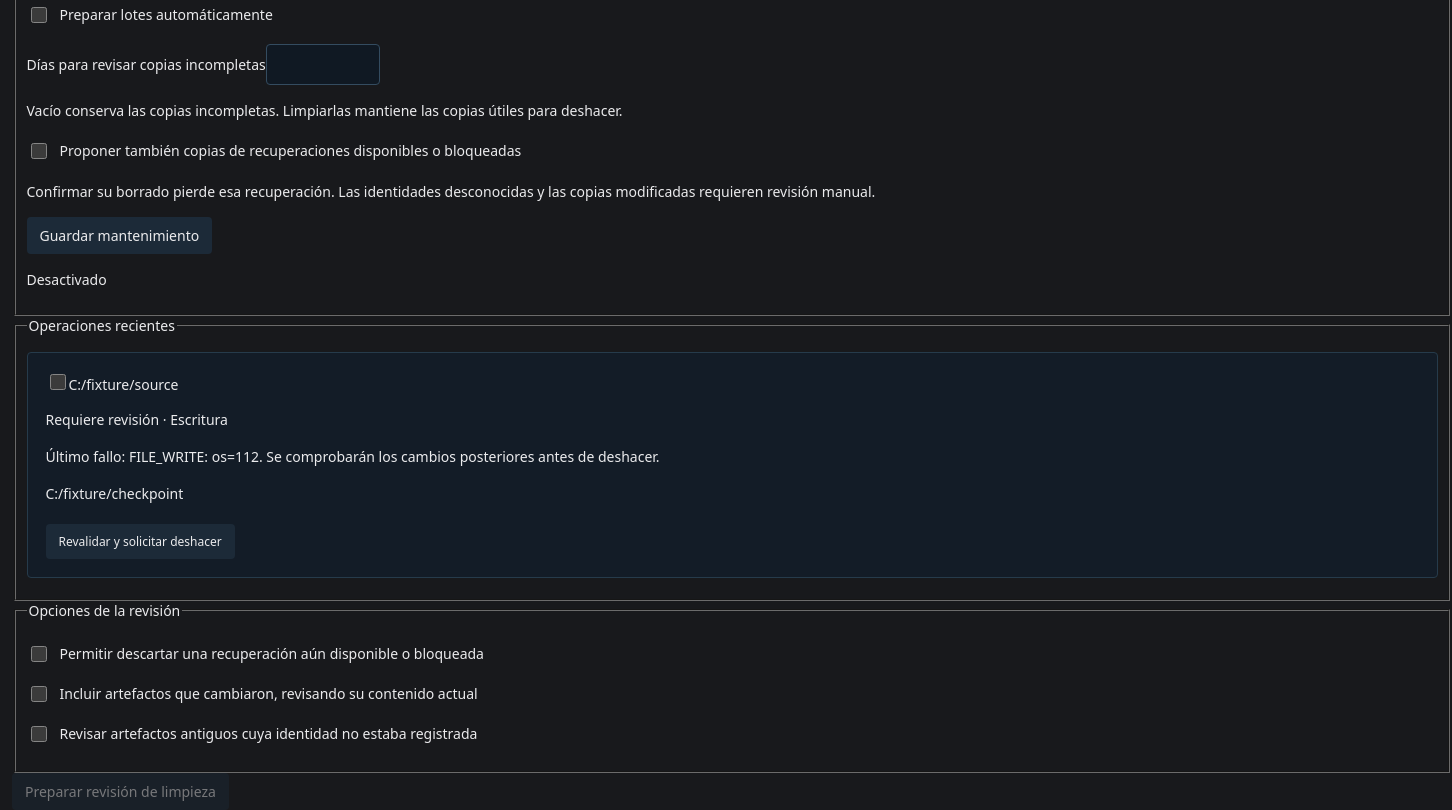
a recorded write failure stays visible and reconciliation reports a verified recovery state
(page scrolled)
Expected: the text "Último fallo: FILE_WRITE: os=112" is shown, [46,447,660,466]
Click the button "Revalidar y solicitar deshacer". click: [140, 542]
box: [46,524,235,559]
(page scrolled)
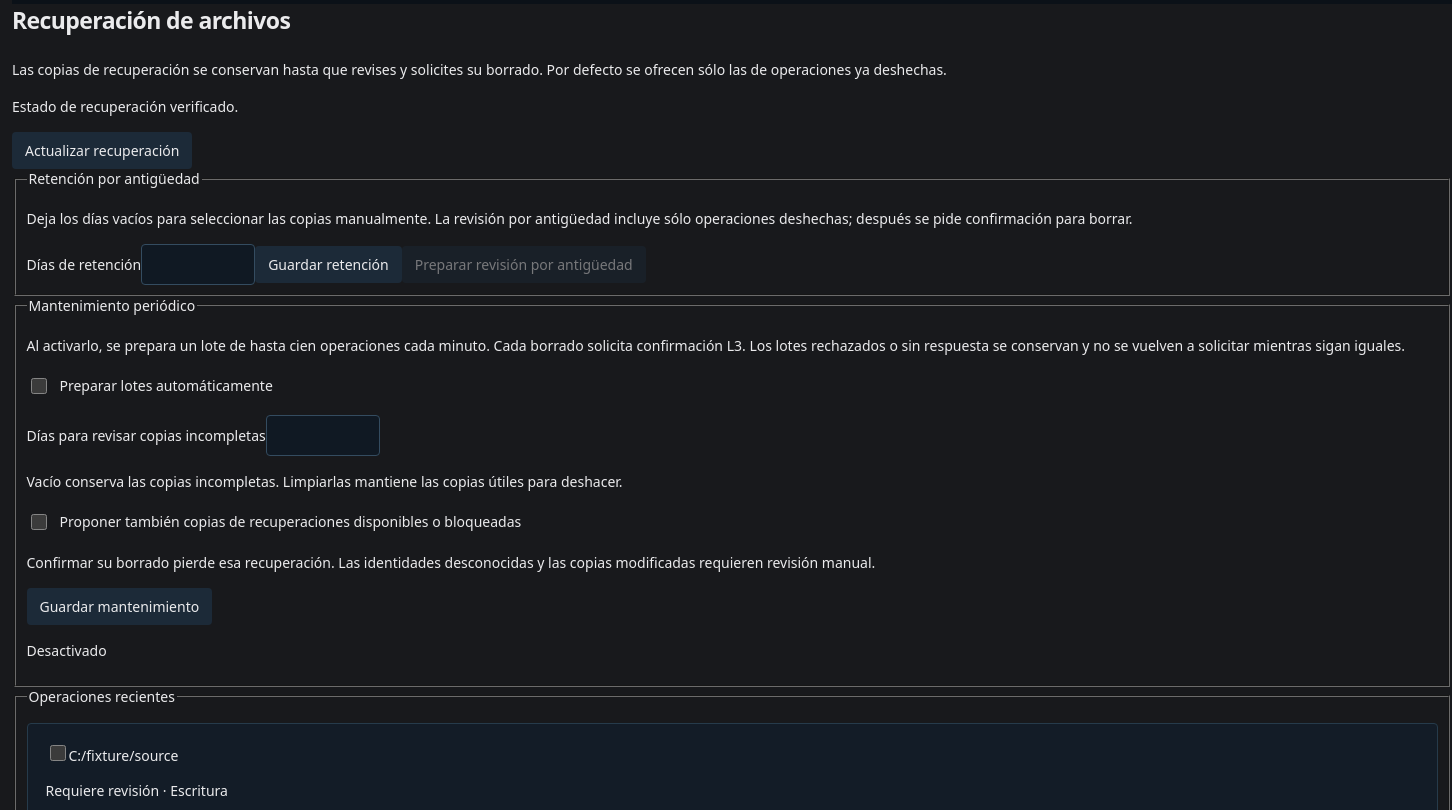
Now the message reads "Estado de recuperación verificado.", box [12,97,238,116]
